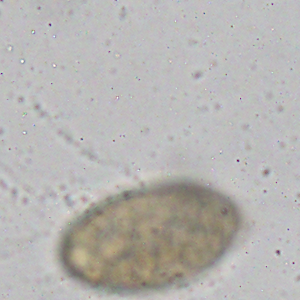Fasciola_hepatica_egg: (58, 177, 241, 292)
